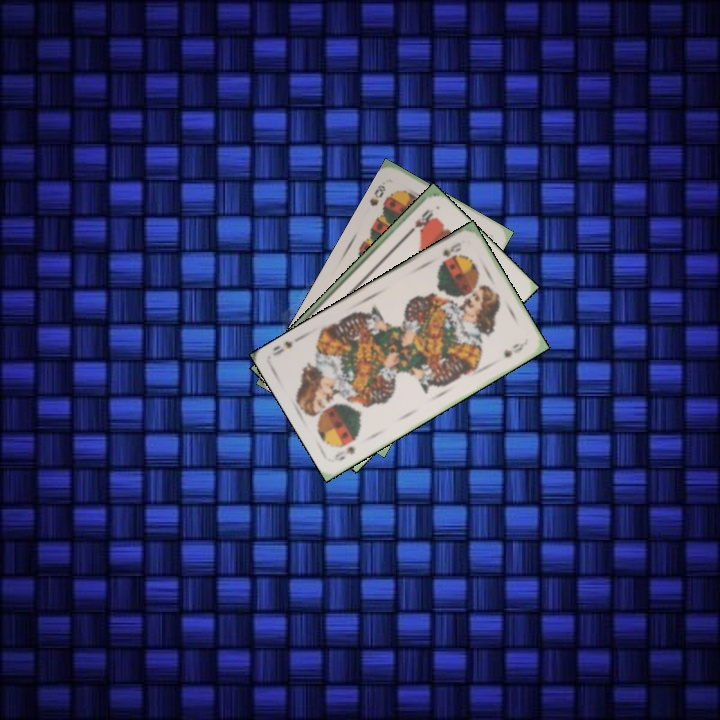HO: (404, 205, 434, 237)
S8: (365, 181, 388, 209)
SO: (438, 238, 464, 265), (330, 442, 358, 464)
